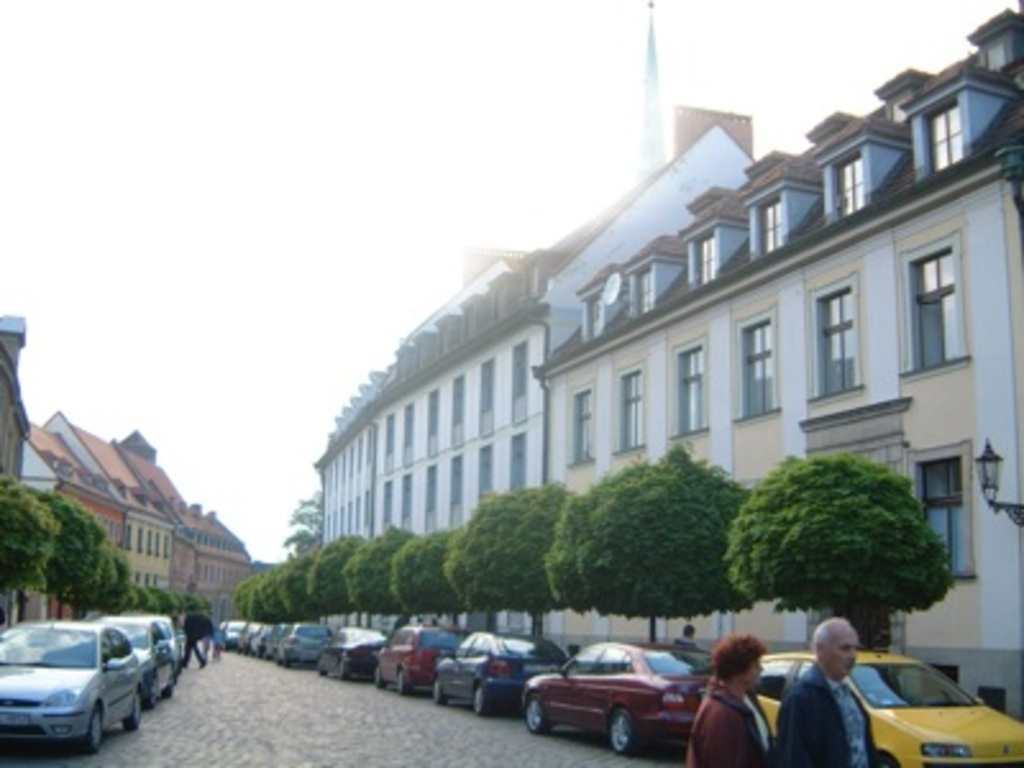car: (735, 639, 1024, 768), (516, 633, 717, 752), (1, 614, 150, 749), (431, 616, 552, 719), (368, 612, 457, 698), (313, 621, 387, 685)
